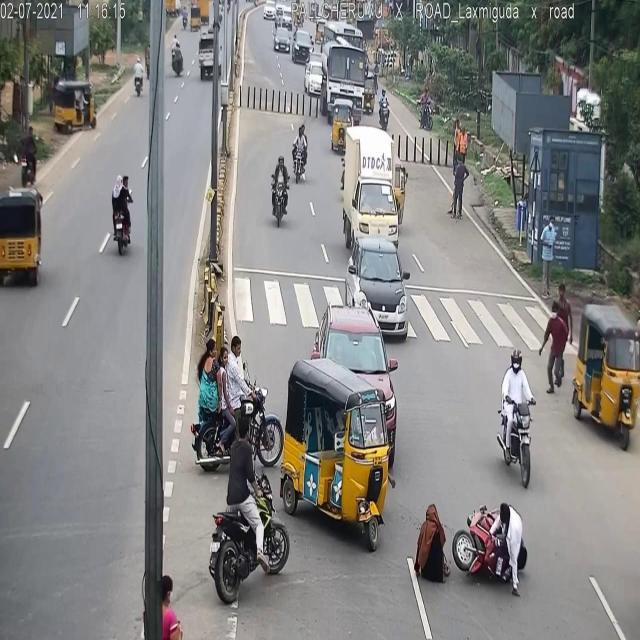accident: (403, 492, 532, 611)
non_accident: (333, 105, 411, 343), (298, 32, 385, 123), (269, 22, 317, 67), (184, 0, 211, 36)
